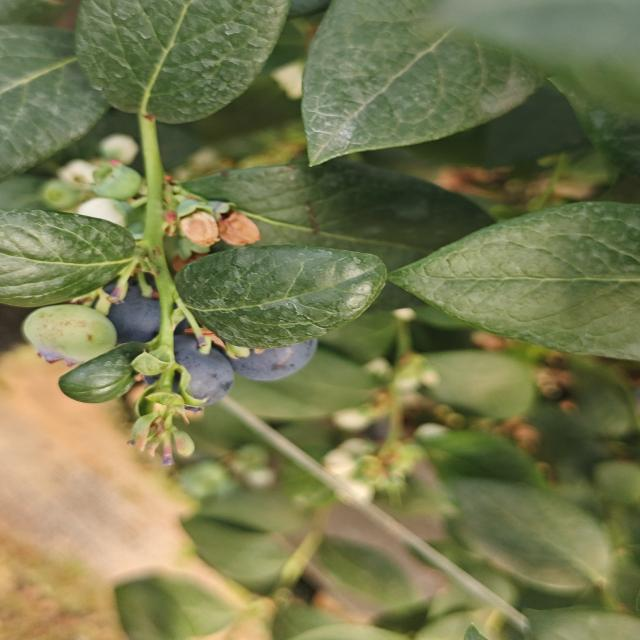ripe: (166, 332, 237, 410), (224, 336, 320, 384), (114, 294, 164, 335)
